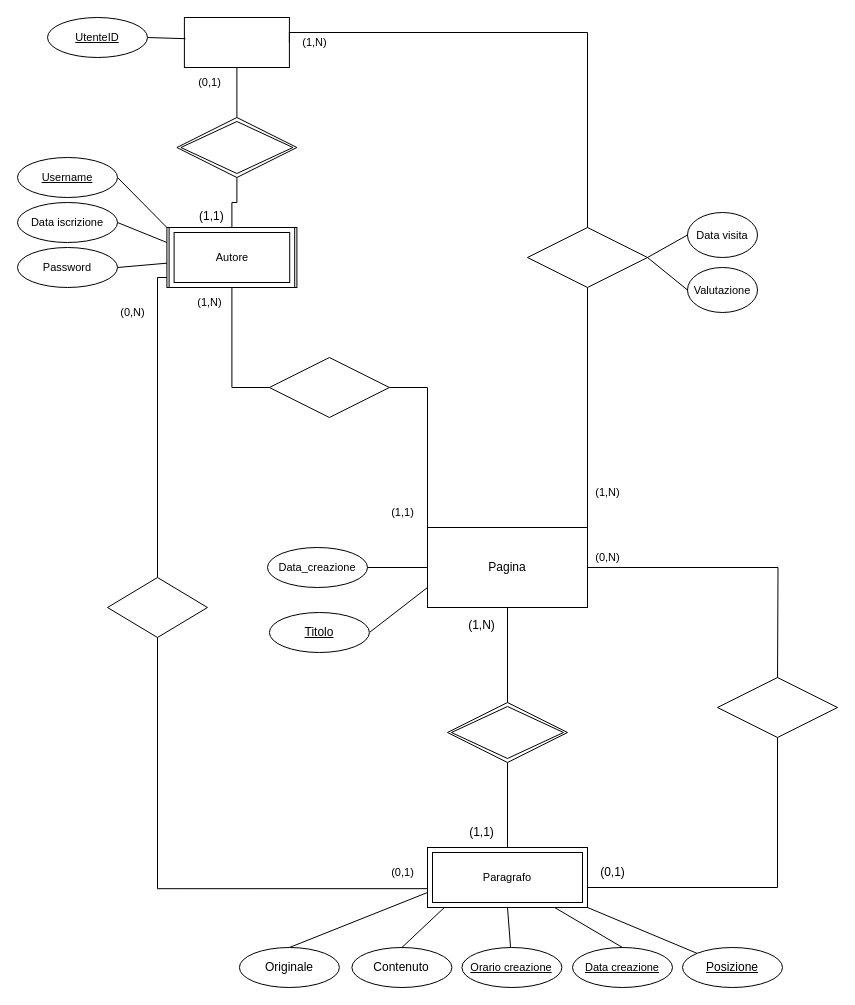
This 855x1005 diagram has some shape labels left out. Here are the shapes that lost their labels. From the top down, the box of each, then its label:
(183, 16, 289, 68): Utente
(176, 116, 297, 178): Iscrizione
(526, 226, 648, 288): Visita
(268, 356, 389, 418): Proprietario
(106, 576, 208, 638): Proposta
(716, 676, 838, 738): Collegamento
(446, 702, 568, 762): Composizione
